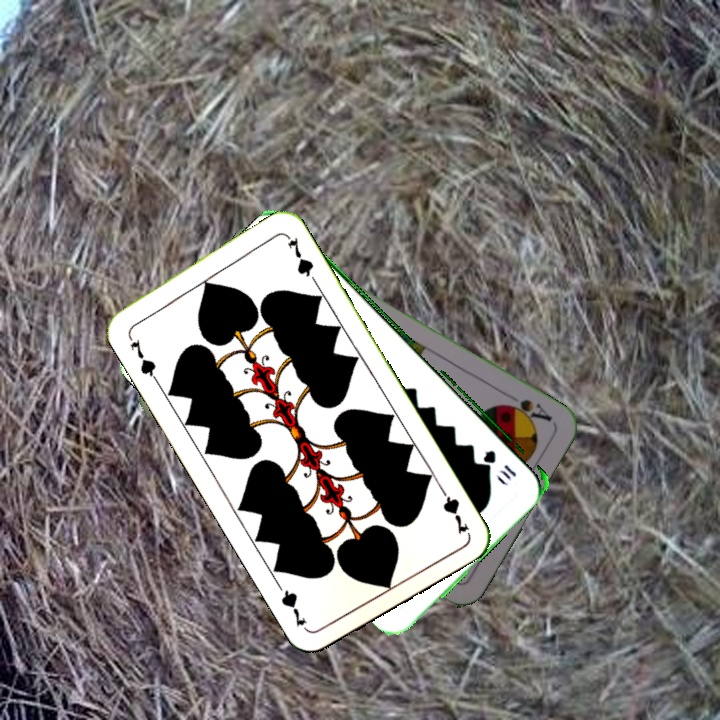G10: (480, 445, 519, 482)
G7: (434, 481, 472, 537), (123, 329, 160, 383)
SA: (500, 394, 555, 426)
